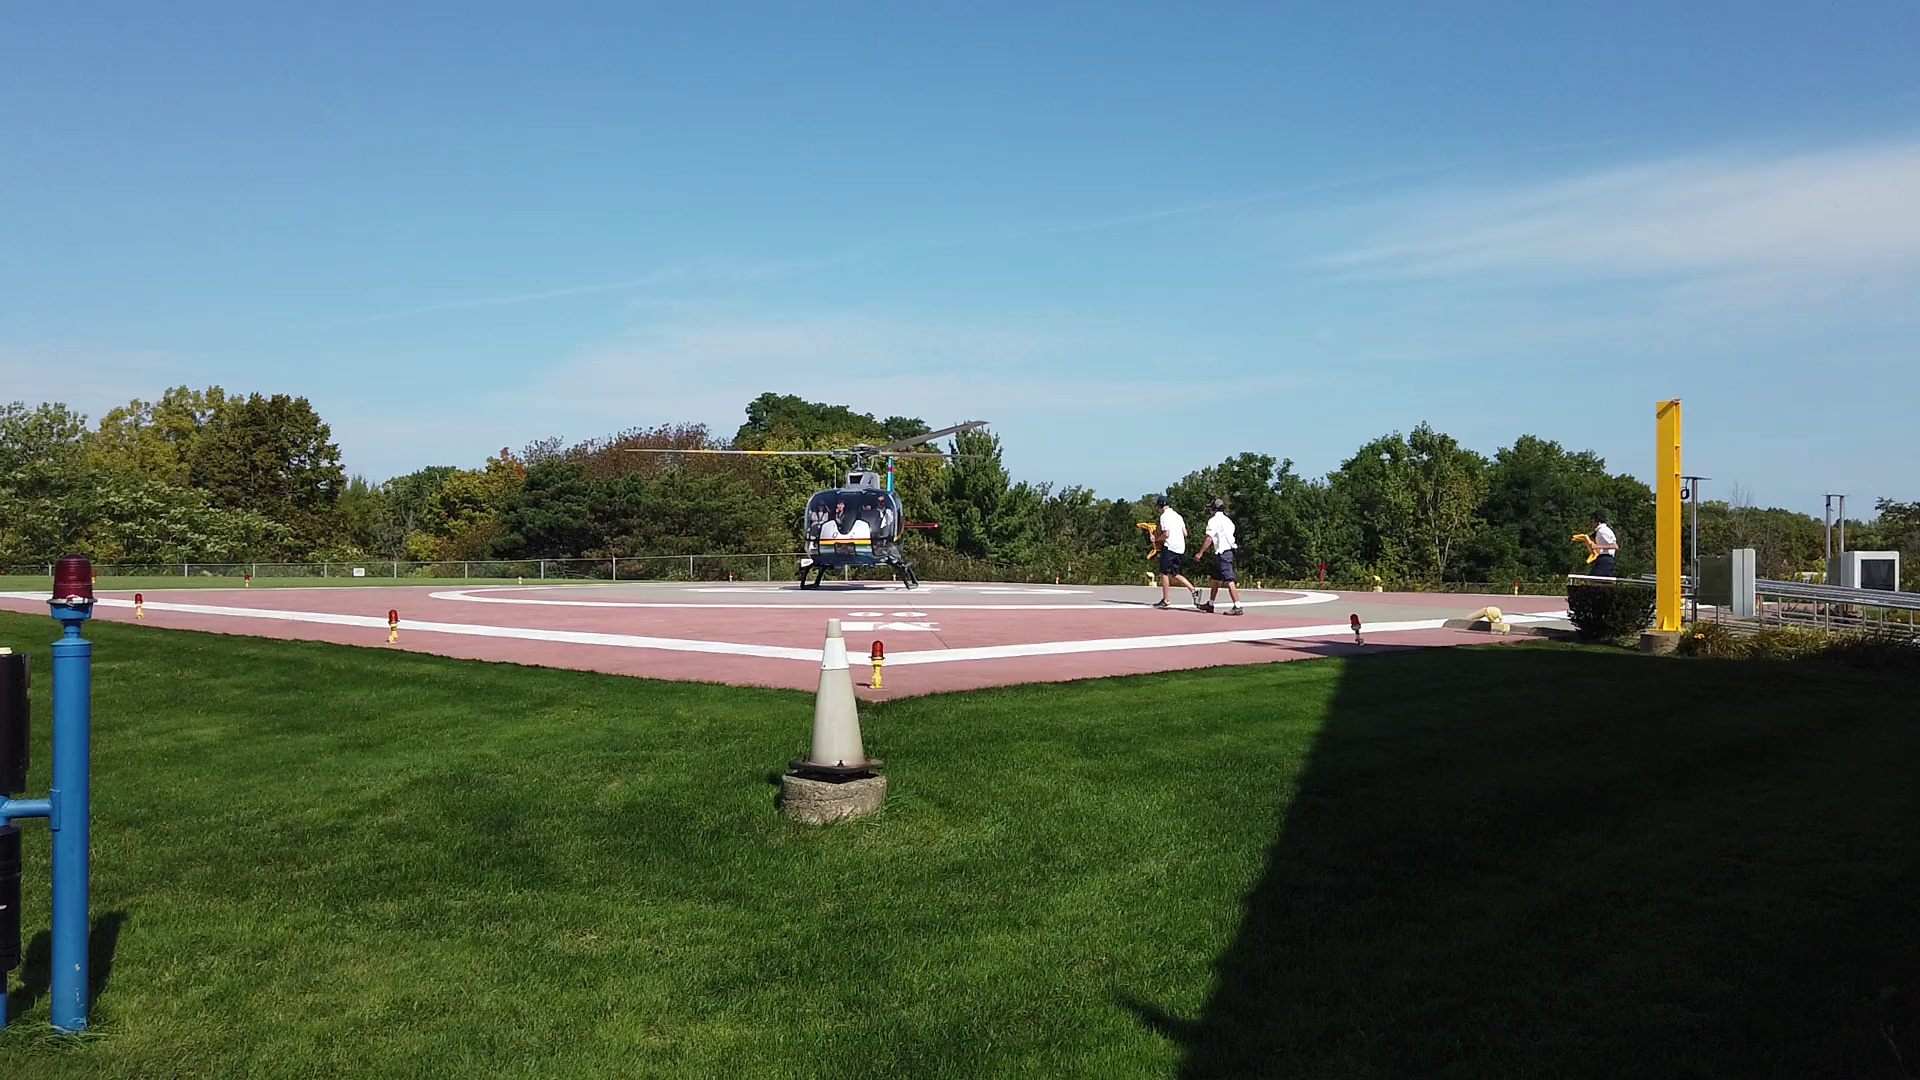heli: (622, 415, 990, 585)
